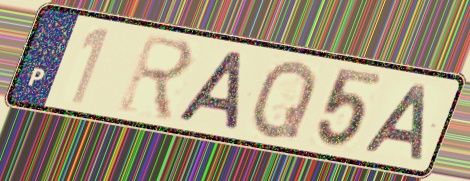1: (69, 26, 112, 107)
5: (314, 65, 387, 152)
A: (173, 48, 250, 133), (360, 83, 430, 164)
Q: (248, 57, 320, 142)
R: (115, 31, 198, 125)
